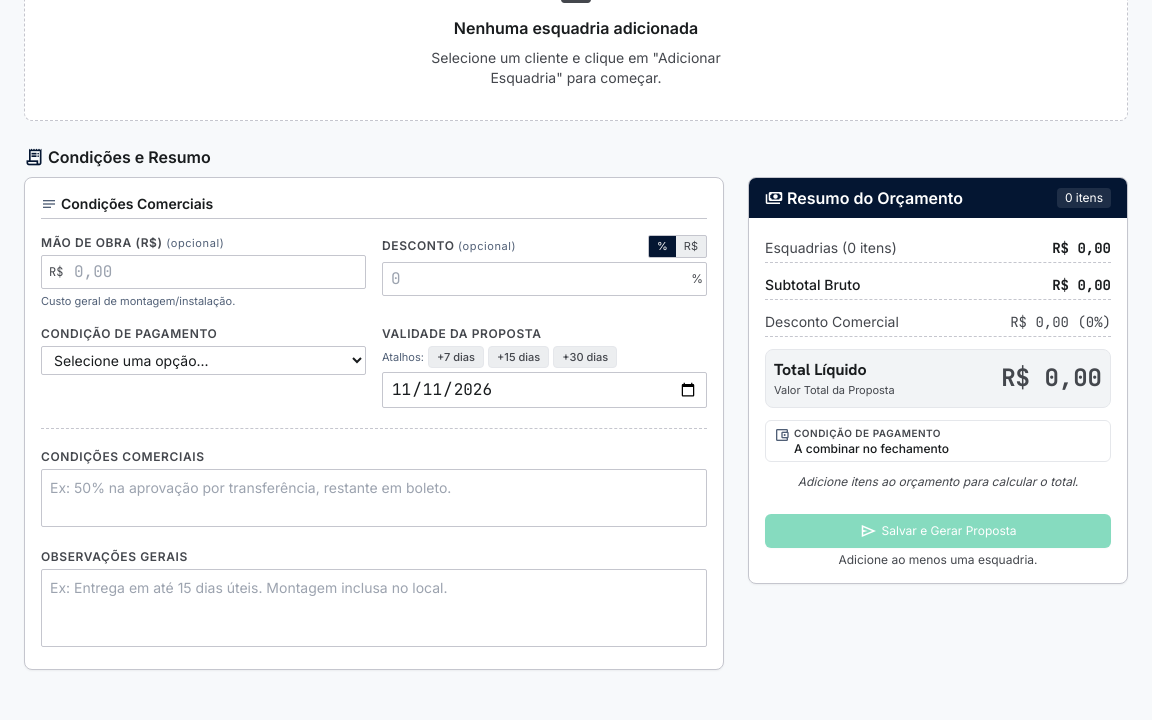
Test: BudgetEditor — [US-09.33] Alinhamento com Seleção de Cliente e Notas › deve refletir a condição de pagamento selecionada no resumo financeiro em tempo real
The image size is (1152, 720).
(page scrolled)
Expected: the element with test id "budget-financial-summary" shows "A combinar no fechamento", [794,440,949,456]
Note: Seleciona a condição de pagamento no formulário
Select "À Vista (PIX / Dinheiro)" in the dropdown labelled "Condição de Pagamento" at (204, 360), box [41,346,366,374]
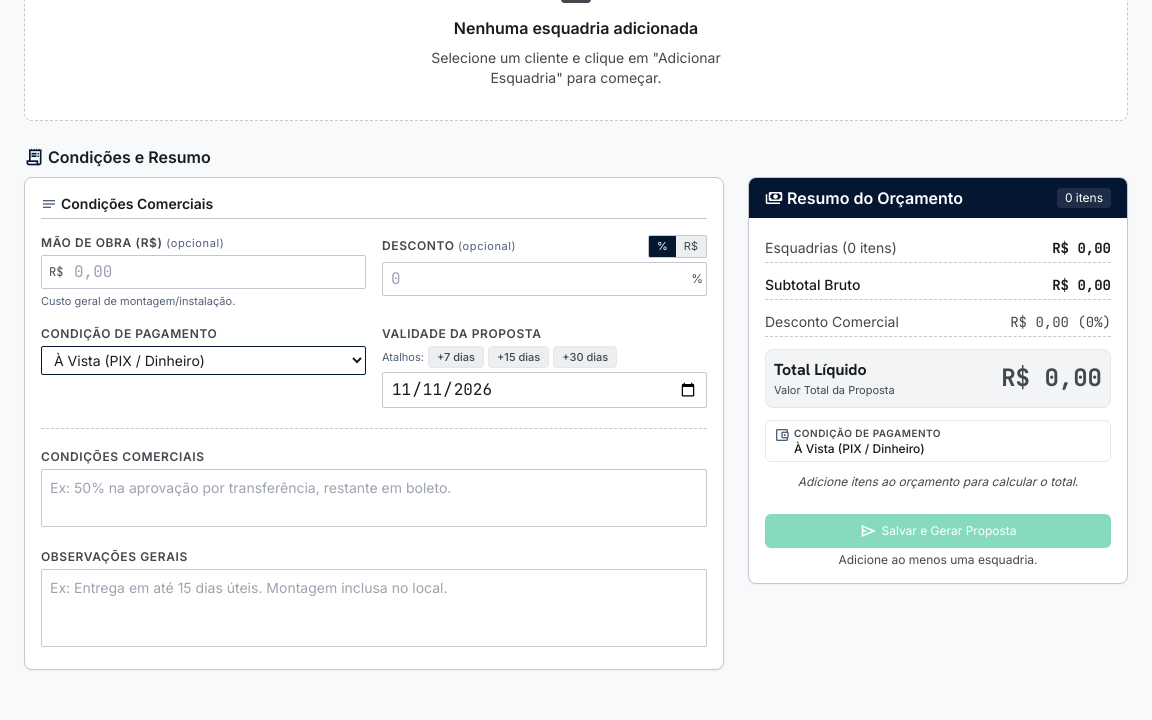
Now the element with test id "budget-financial-summary" shows "À Vista (PIX / Dinheiro)", box [794,440,925,456]
Now the element with test id "budget-financial-summary" no longer shows "A combinar no fechamento", box [748,177,1128,584]
Note: Altera para outra opção e confirma atualização imediata
Select "Cartão de Crédito até 12x" in the dropdown labelled "Condição de Pagamento" at (204, 360), box [41,346,366,374]
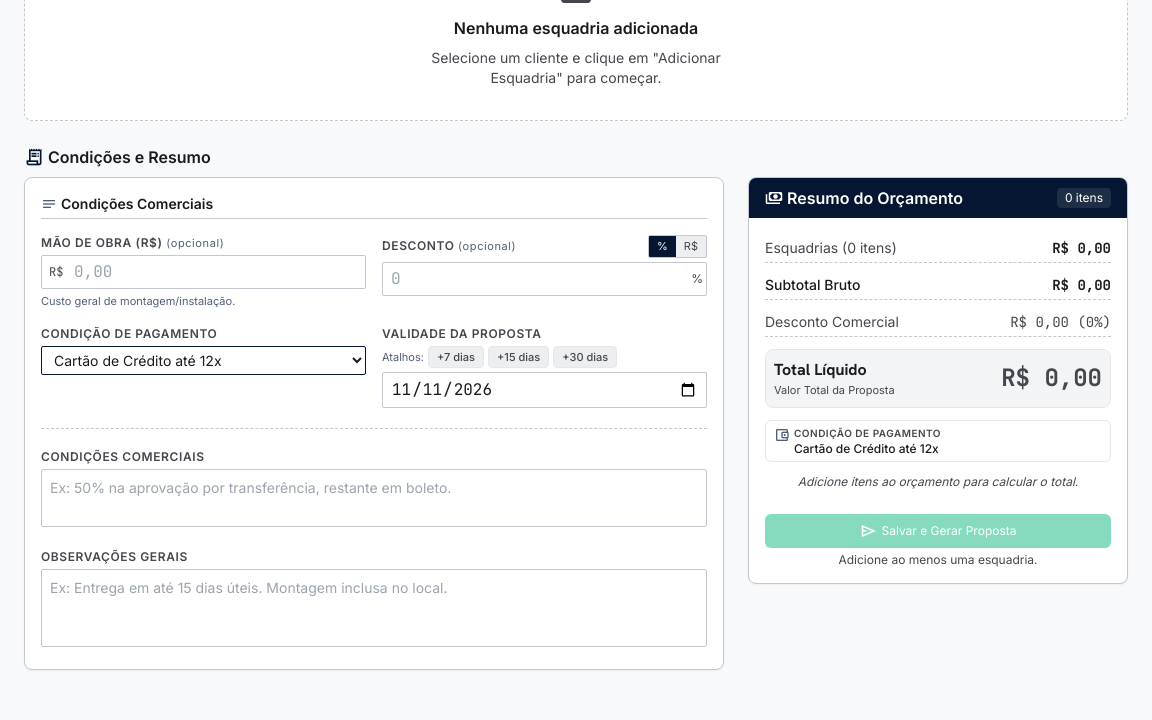
Now the element with test id "budget-financial-summary" shows "Cartão de Crédito até 12x", box [794,440,939,456]
